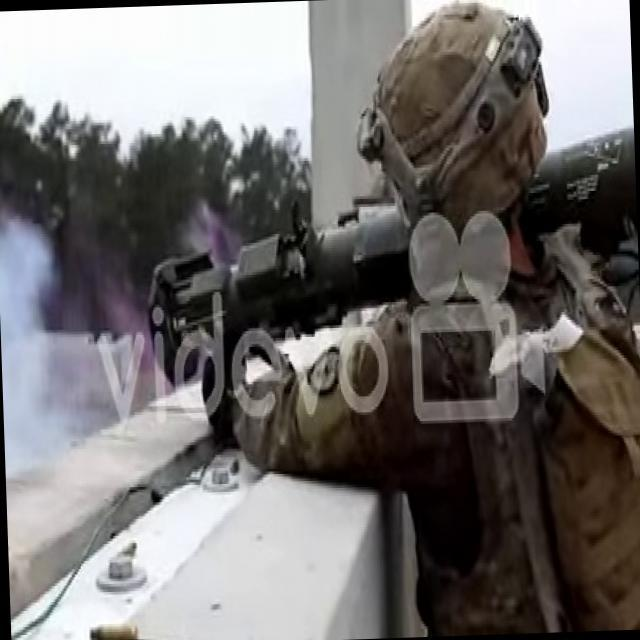rocket: (142, 133, 640, 390)
